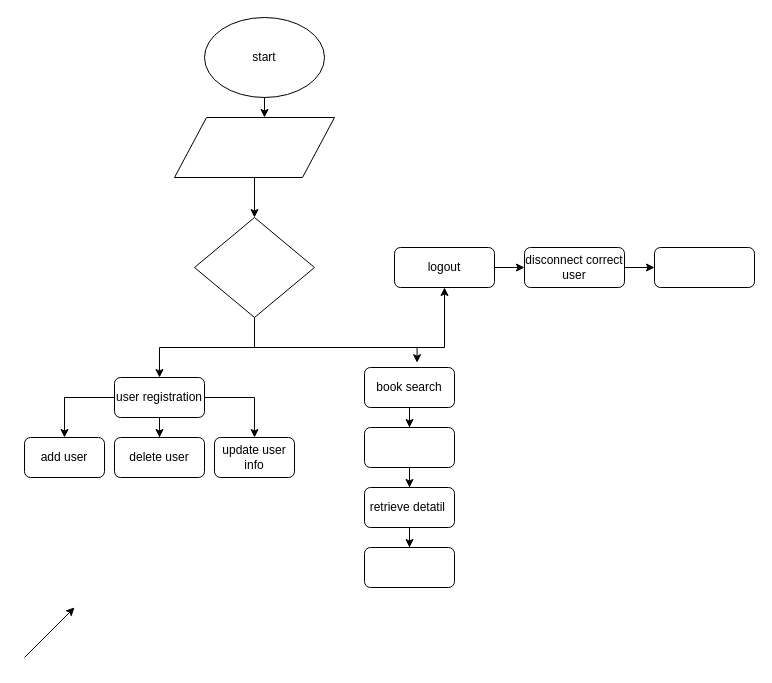
The diagram is 772 pixels wide and 683 high, and some of its shapes have lost their labels. The box of each missing label's shape, as (x1, y1, x2, y2) in pixels:
enter username & password: (174, 116, 334, 178)
exit: (654, 246, 754, 288)
if username & password correct: (194, 216, 314, 318)
search by title: (364, 426, 454, 468)
show detail: (364, 546, 454, 588)
